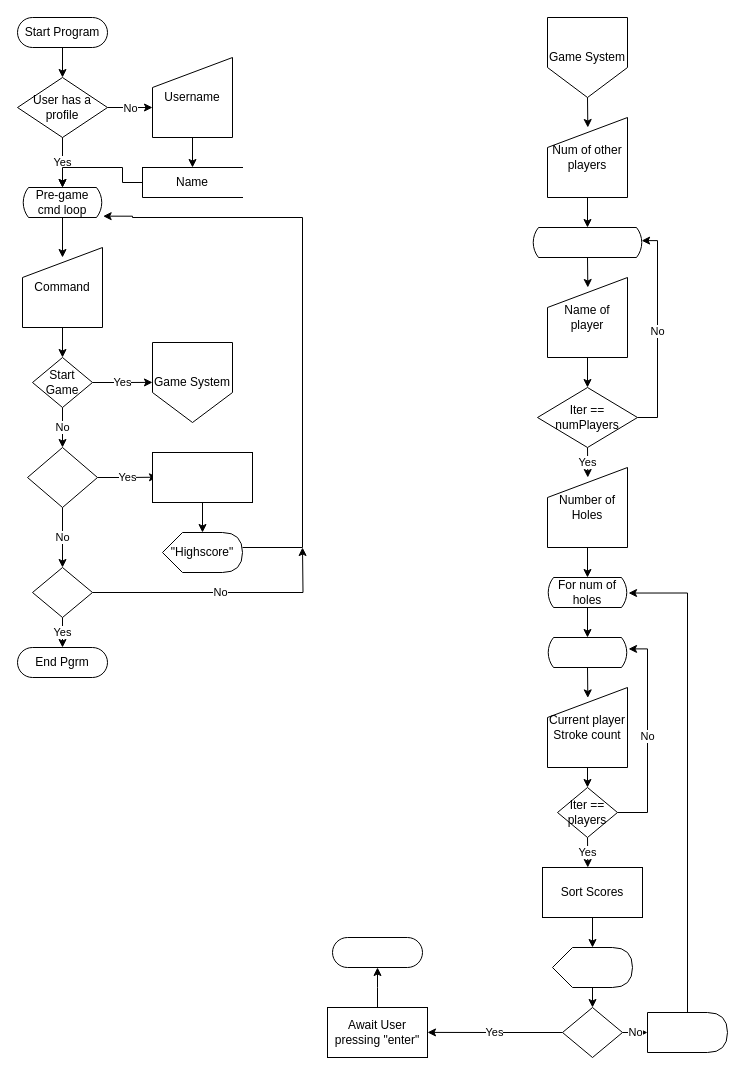
Some shapes in this 745 by 1075 pixel diagram are drawn without their labels. Each missing label, with the centre of its shape:
15sec Delay: pixel 687 1032
Final Hole: pixel 592 1032
For num of players: pixel 587 652
Gather Names (num players): pixel 587 242
Get Highscore: pixel 62 477
Go to cmd loop: pixel 377 952
Leaderboard: pixel 592 967
Retrieve Stored "Highscore": pixel 202 477
Terminate: pixel 62 592
